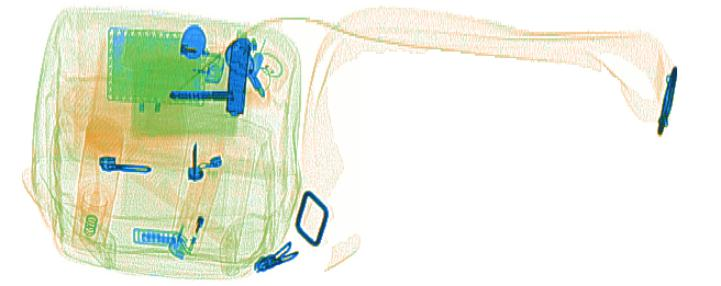lighter: (165, 150, 223, 261), (120, 38, 224, 83)
plasticBottleWithaNozzle: (71, 114, 124, 250)
